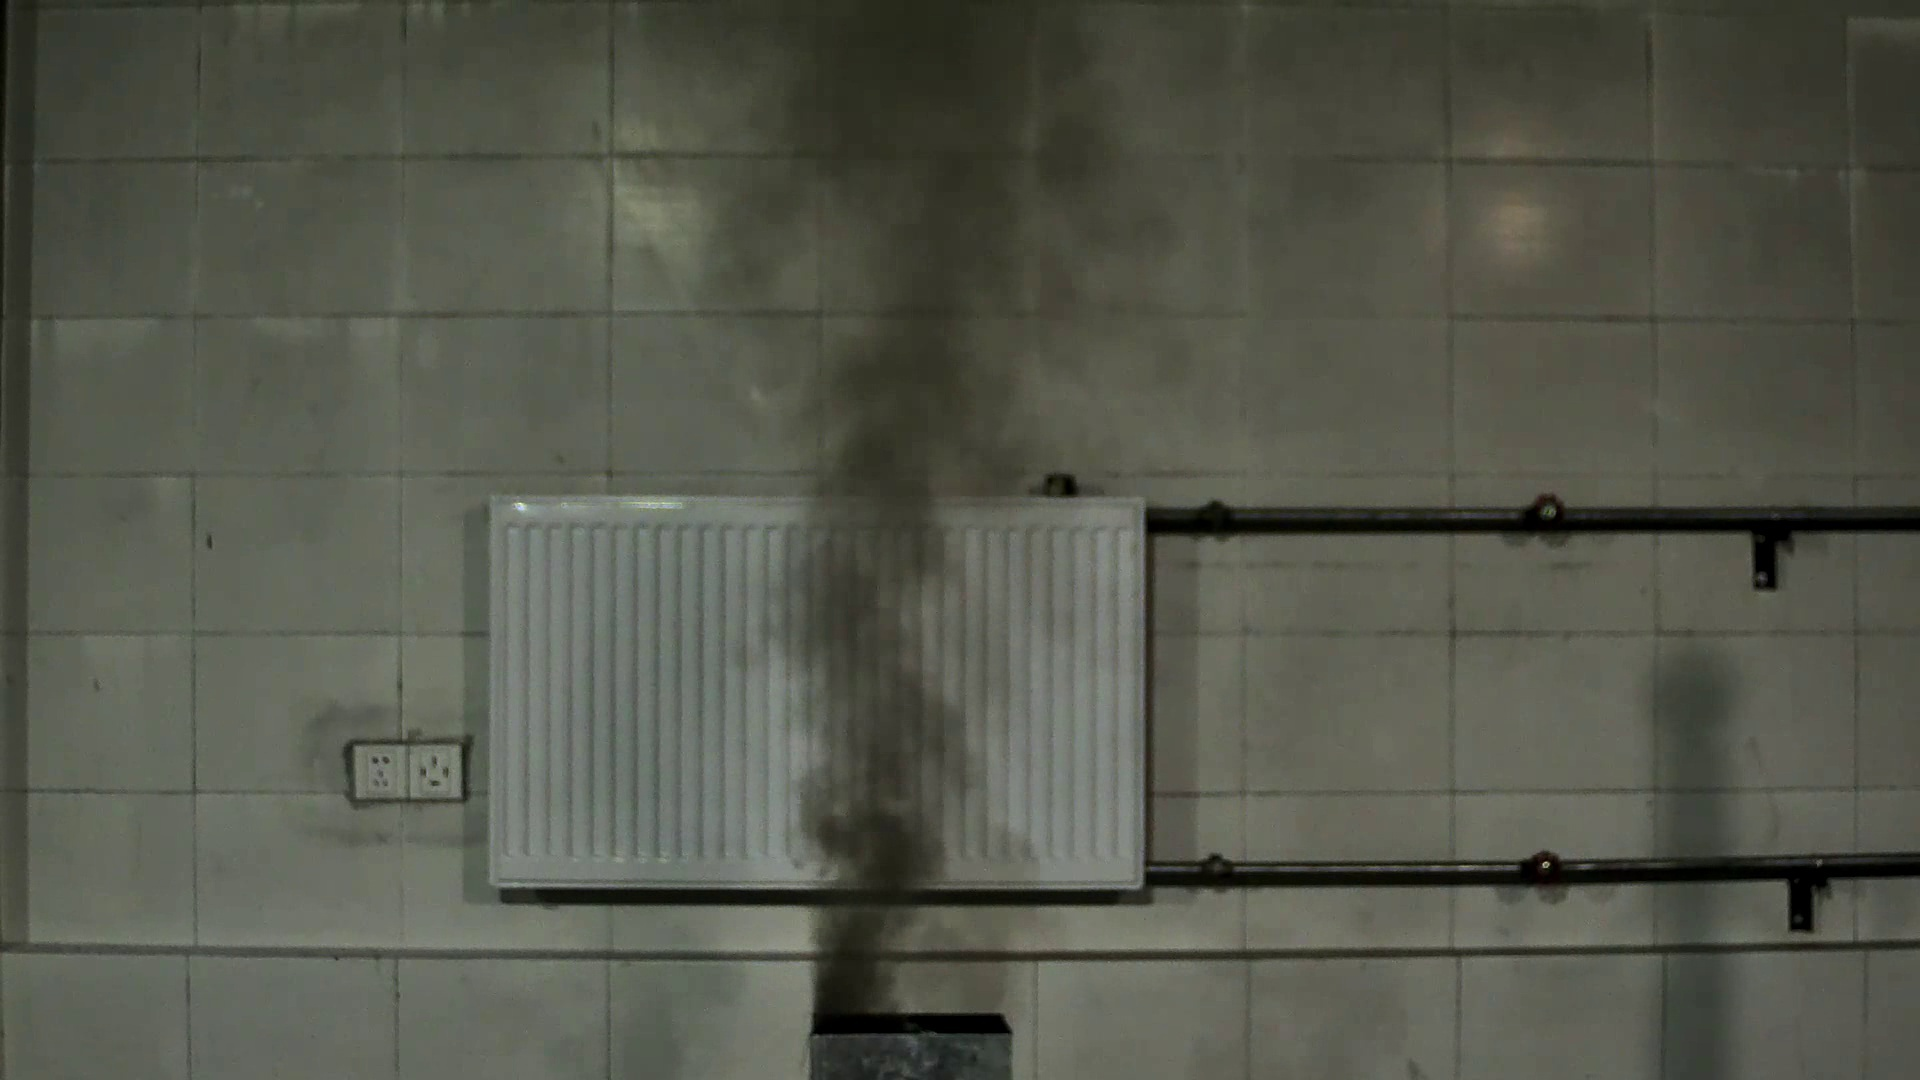smoke: (717, 241, 1013, 1005)
